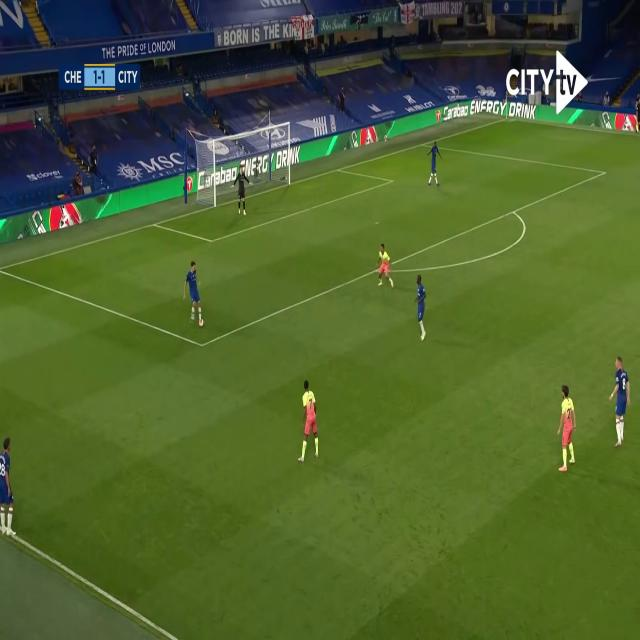Ball: (198, 316, 206, 332)
GoalKeeper: (230, 162, 253, 219)
TEAM 1: (610, 361, 629, 450), (0, 437, 16, 533), (186, 258, 206, 320), (414, 274, 428, 342), (428, 142, 443, 186)
TEAM 2: (295, 380, 321, 466), (558, 386, 578, 476), (374, 242, 394, 289)
